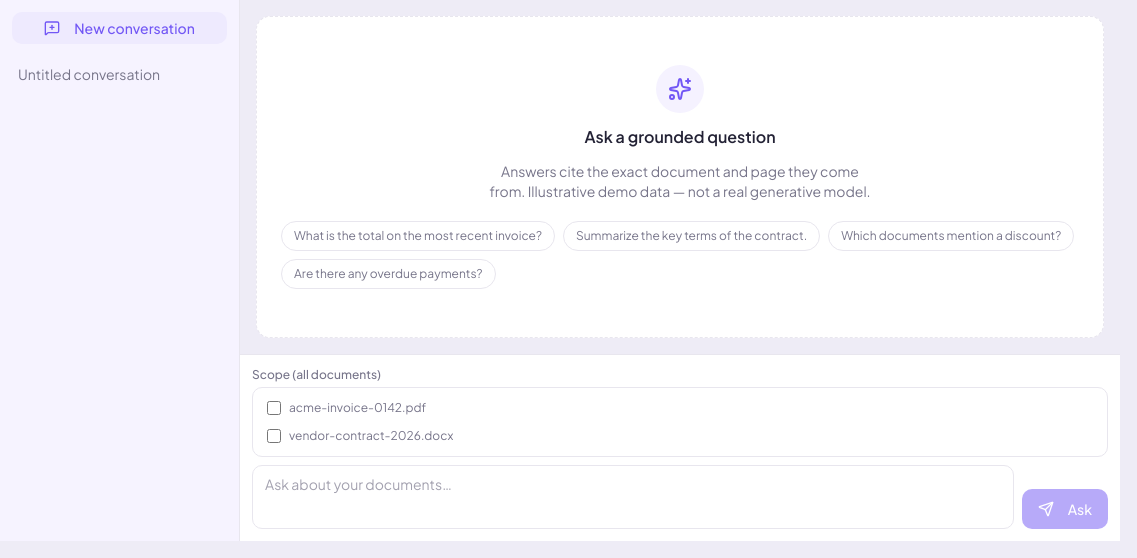
Test case: AiAssistantPage › loads an existing conversation and shows its messages with citations
This screenshot has width=1137, height=558.
Click the button "Untitled conversation" at {"x": 120, "y": 74}, box [8,56,231,92]
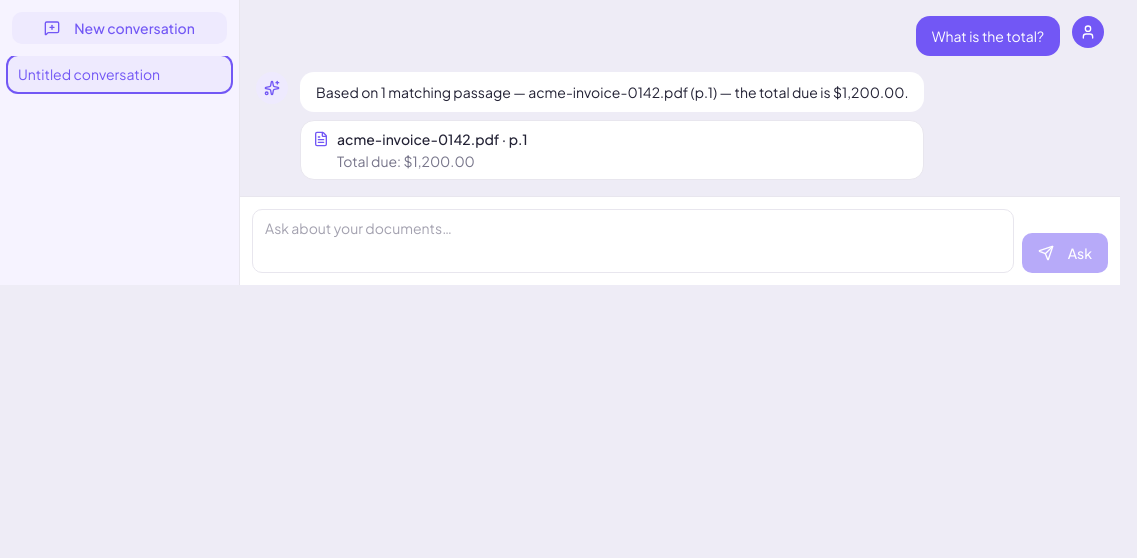
Now the text "What is the total?" is shown, box [916,16,1060,56]
Now the button "acme-invoice-0142.pdf · p.1 Total due: $1,200.00" is shown, box [300,120,924,180]
